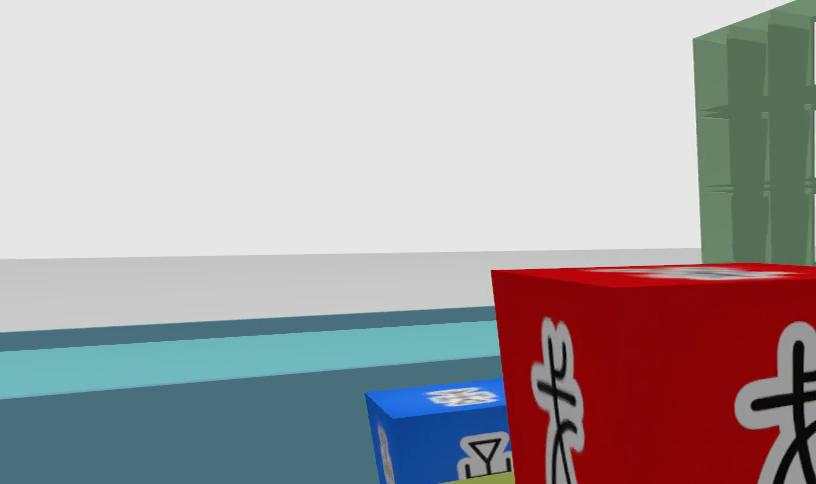KFS_FAKE: (733, 322, 816, 484), (531, 317, 583, 484)
KFS_REAL: (363, 377, 513, 484), (456, 430, 515, 478), (428, 386, 500, 407)
